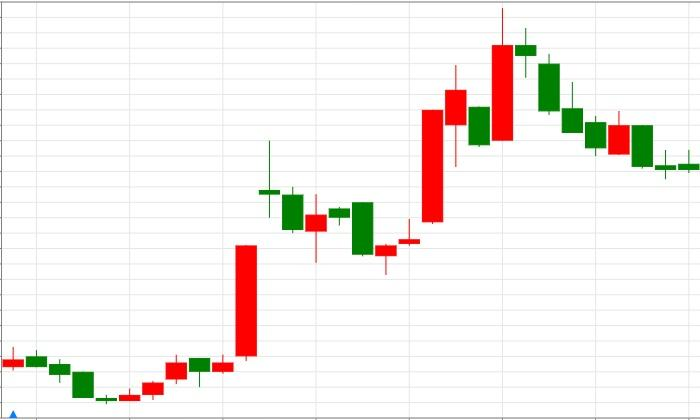three_black_crows_fall: (468, 8, 584, 147)
three_white_soldiers_rise: (258, 110, 444, 274), (2, 347, 188, 405)
